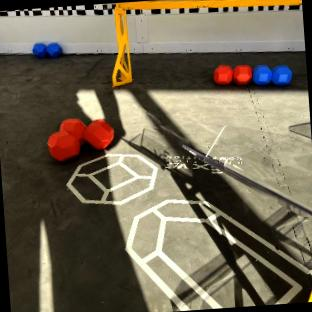V5_BLUE: (253, 65, 291, 84), (33, 42, 61, 57)
V5_RED: (47, 118, 112, 161), (233, 65, 252, 83), (213, 65, 232, 83)
